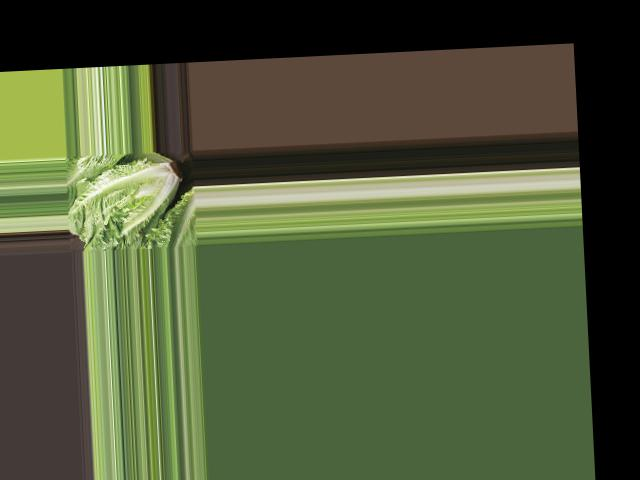lettuce: (66, 149, 190, 245)
